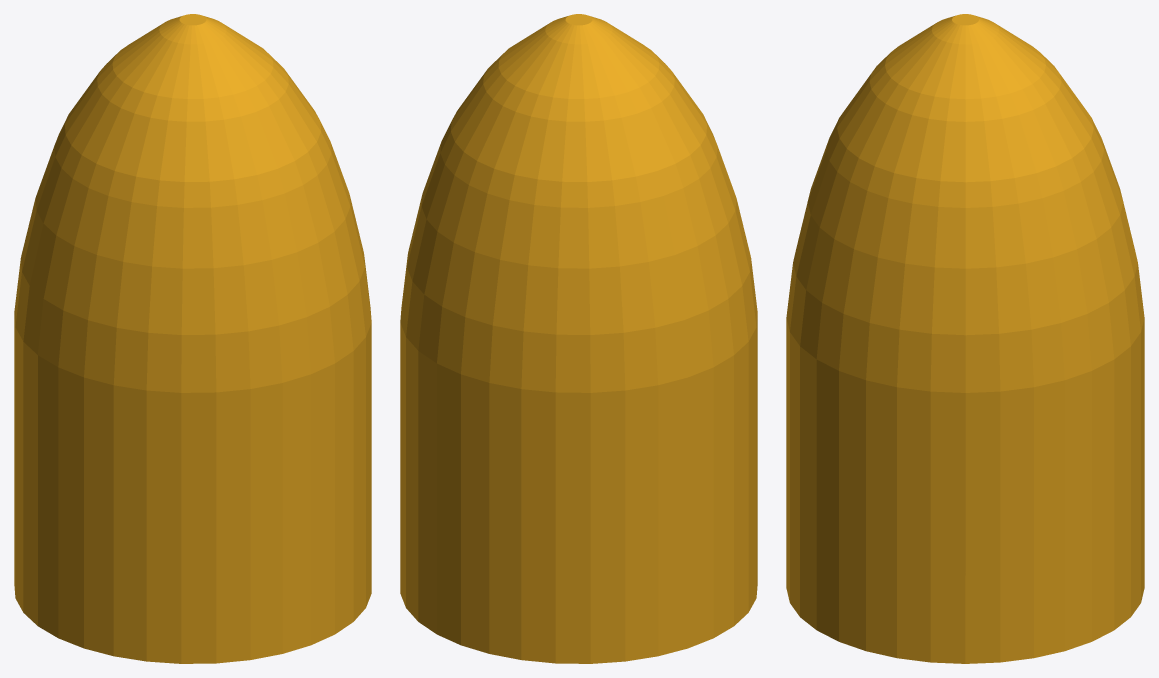
Rendered from bulletshort.fbx.
3 views of the same model, side by side, from view 1: azimuth 30°, elevation 25°; view 2: azimuth 150°, elevation 25°; view 3: azimuth 270°, elevation 25° (orthographic).
Visible parts, largest first — view 1: Cylinder.001; view 2: Cylinder.001; view 3: Cylinder.001.
Boxes of the visible parts, x1,y1,x2,y2 form: Cylinder.001: [14, 14, 371, 663]; Cylinder.001: [400, 14, 757, 663]; Cylinder.001: [786, 14, 1144, 663].
Bounding box in the file's own units: 15 × 26.28 × 15.
